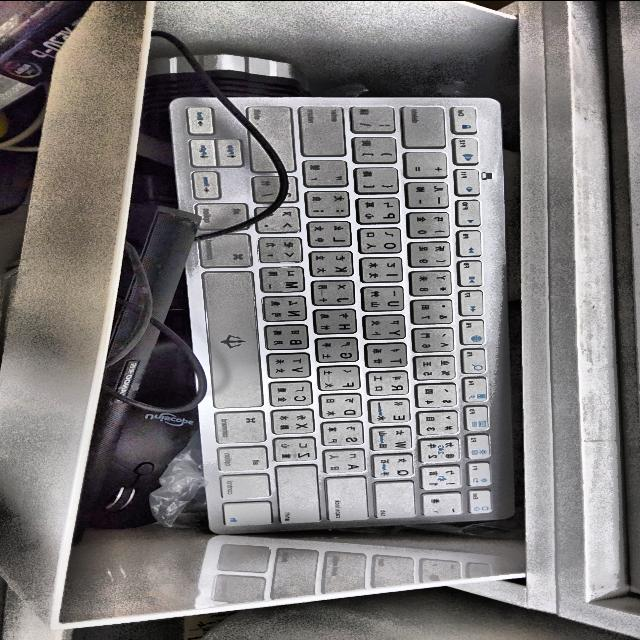Keyboard: (186, 95, 513, 533), (171, 95, 278, 232)
